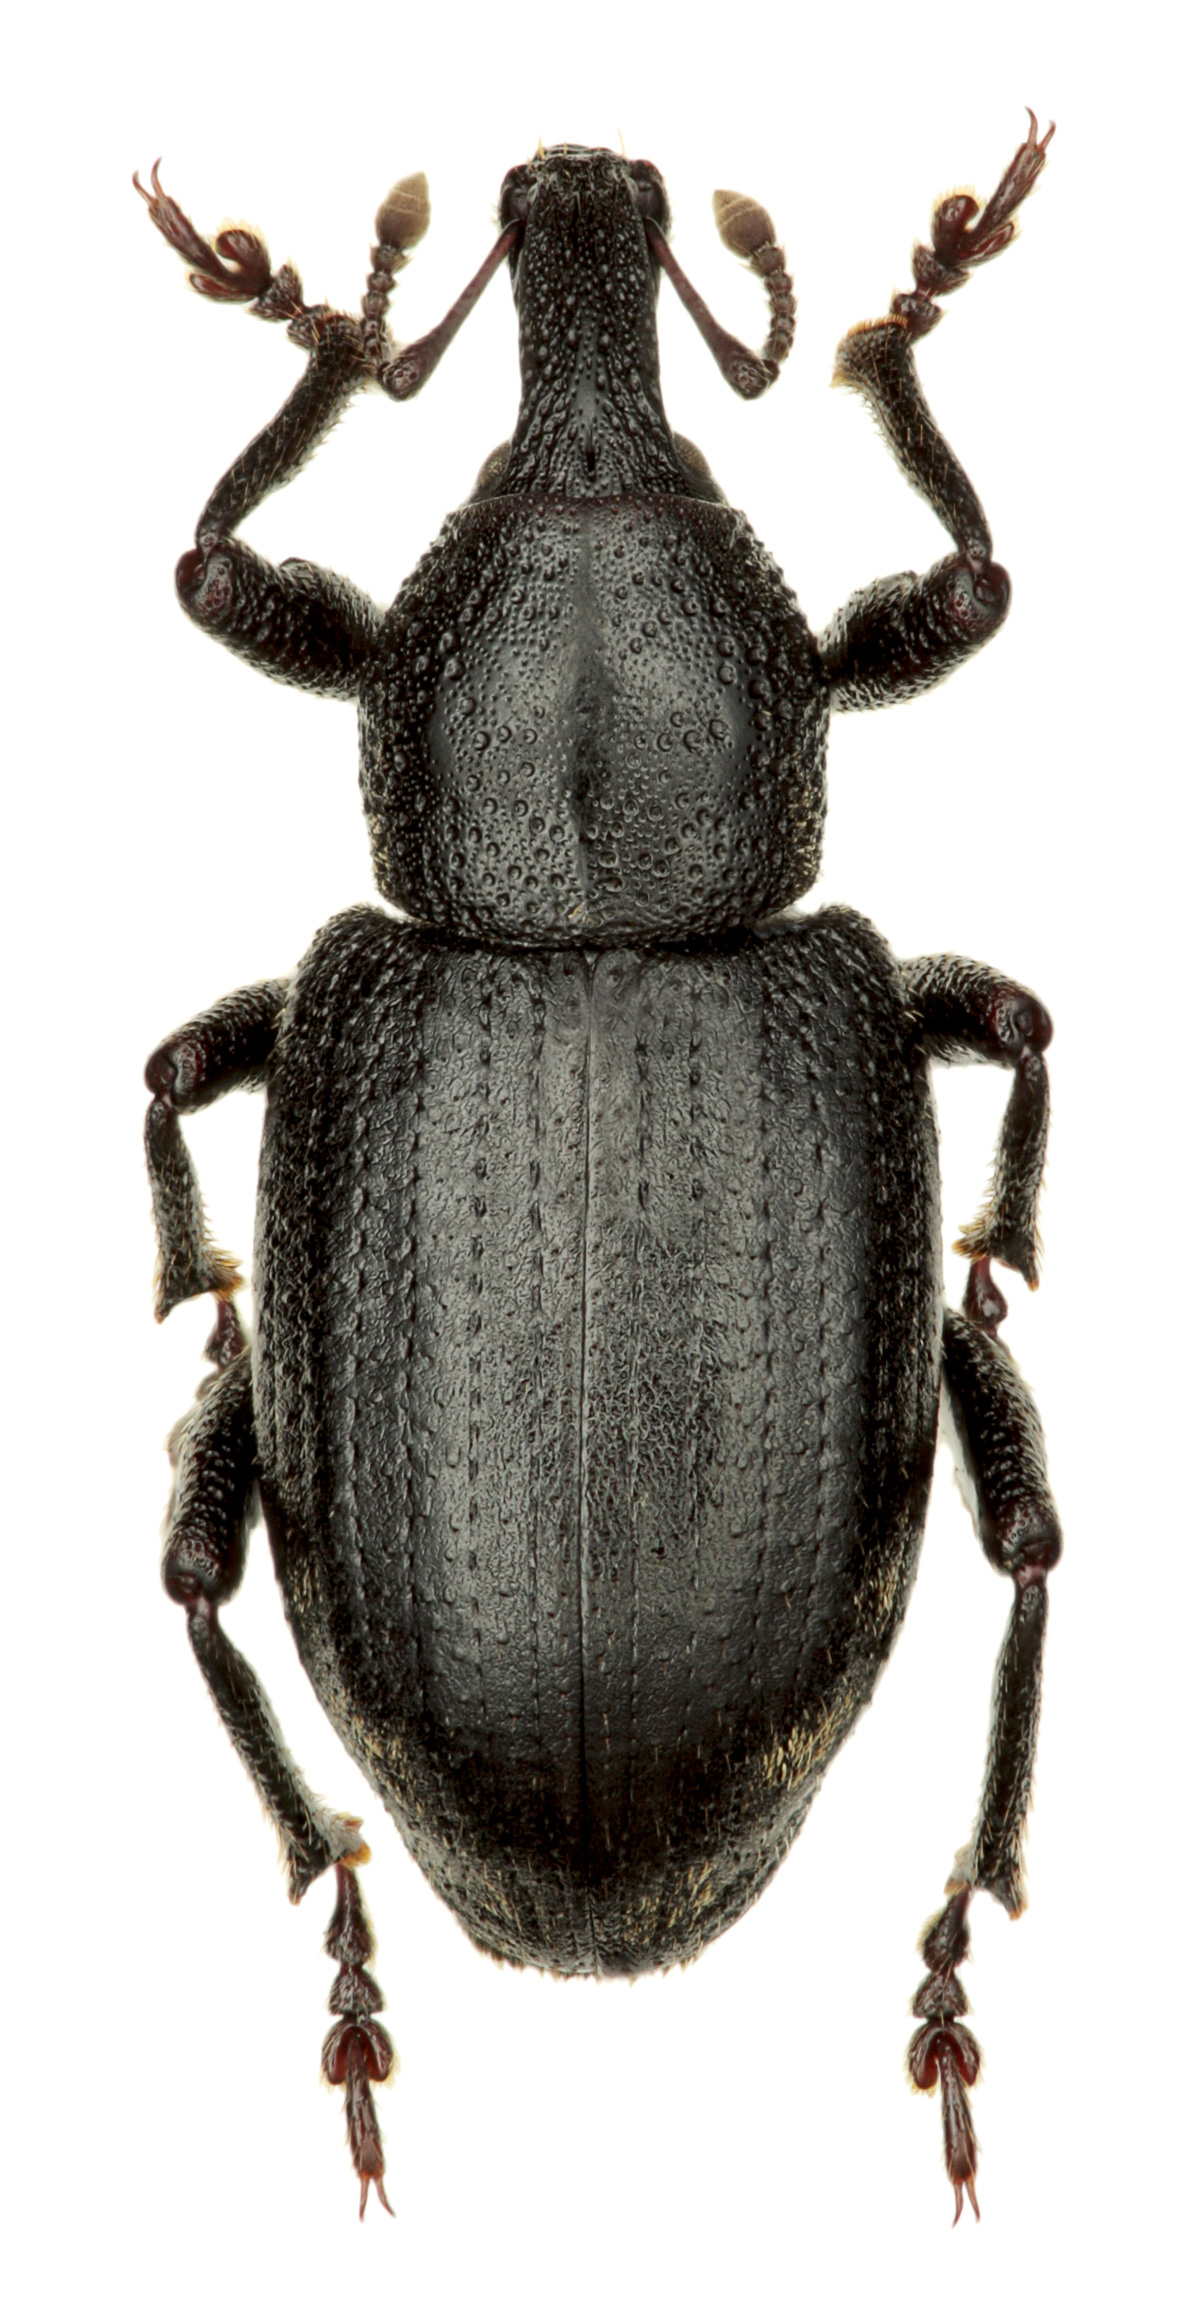dolgonosik: (106, 138, 1114, 2265)
